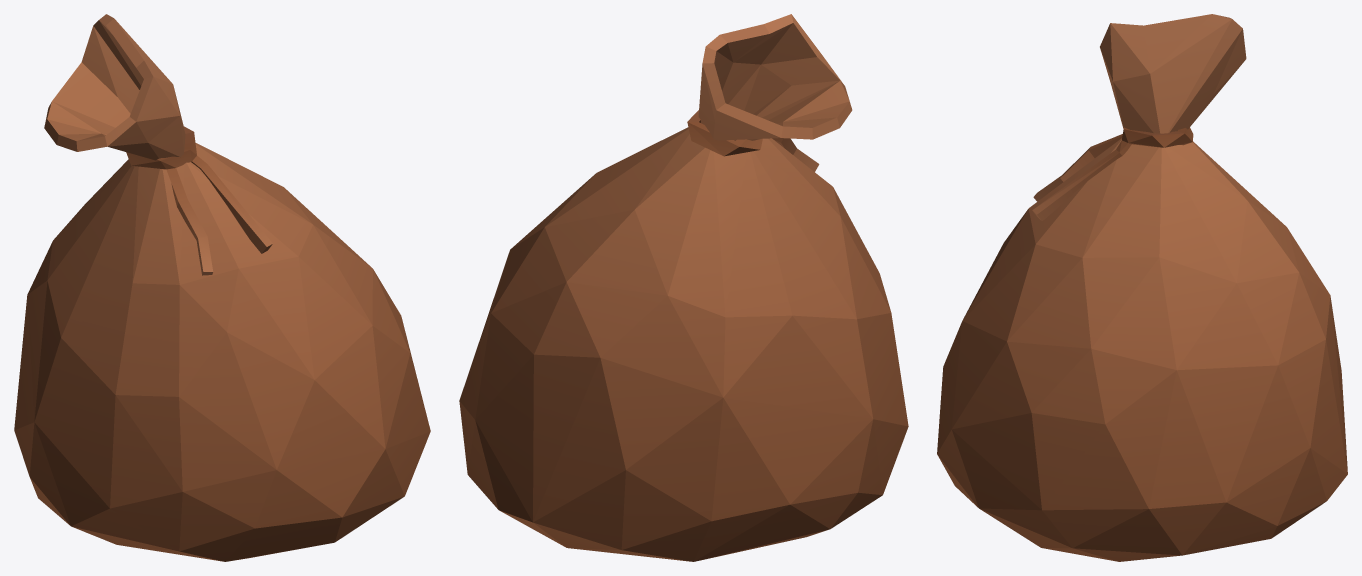
The model's file is SM_Sack_02.fbx.
The picture shows the model from 3 angles, left to right: view 1: azimuth 30°, elevation 25°; view 2: azimuth 150°, elevation 25°; view 3: azimuth 270°, elevation 25°; orthographic projection. The views are drawn at different scales.
Visible parts, largest first — view 1: SM_Sack_02; view 2: SM_Sack_02; view 3: SM_Sack_02.
Part boxes in pixels (bbox=[...]): SM_Sack_02: bbox=[14, 14, 430, 561]; SM_Sack_02: bbox=[459, 14, 908, 561]; SM_Sack_02: bbox=[937, 14, 1347, 561].
Bounding box in the file's own units: 57.38 × 71.34 × 58.47.
